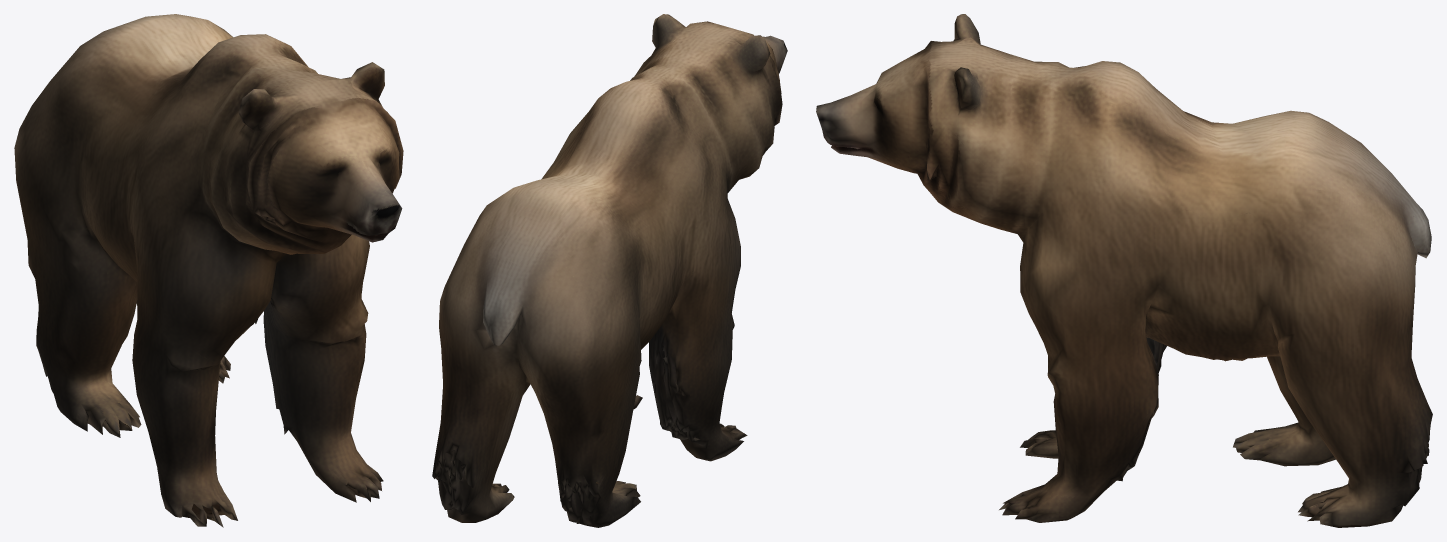
The model's file is bear.glb.
3 views of the same model, side by side, from view 1: azimuth 30°, elevation 25°; view 2: azimuth 150°, elevation 25°; view 3: azimuth 270°, elevation 25° (orthographic). The views are drawn at different scales.
Visible parts, largest first — view 1: Creature; view 2: Creature; view 3: Creature.
Part boxes in pixels (<box>): Creature: <box>14,14,403,527</box>; Creature: <box>432,14,787,527</box>; Creature: <box>816,14,1432,527</box>.
Size of the model in its own units: 0.7763 by 1.57 by 2.
Materials: 1 (1 with a texture image).
